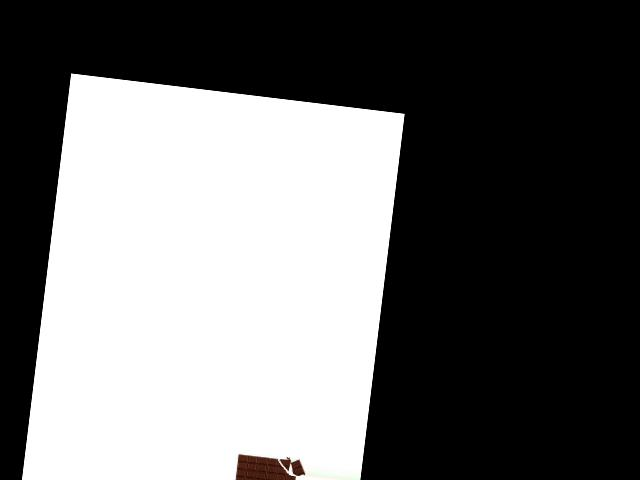chocolate: (233, 444, 308, 480)
